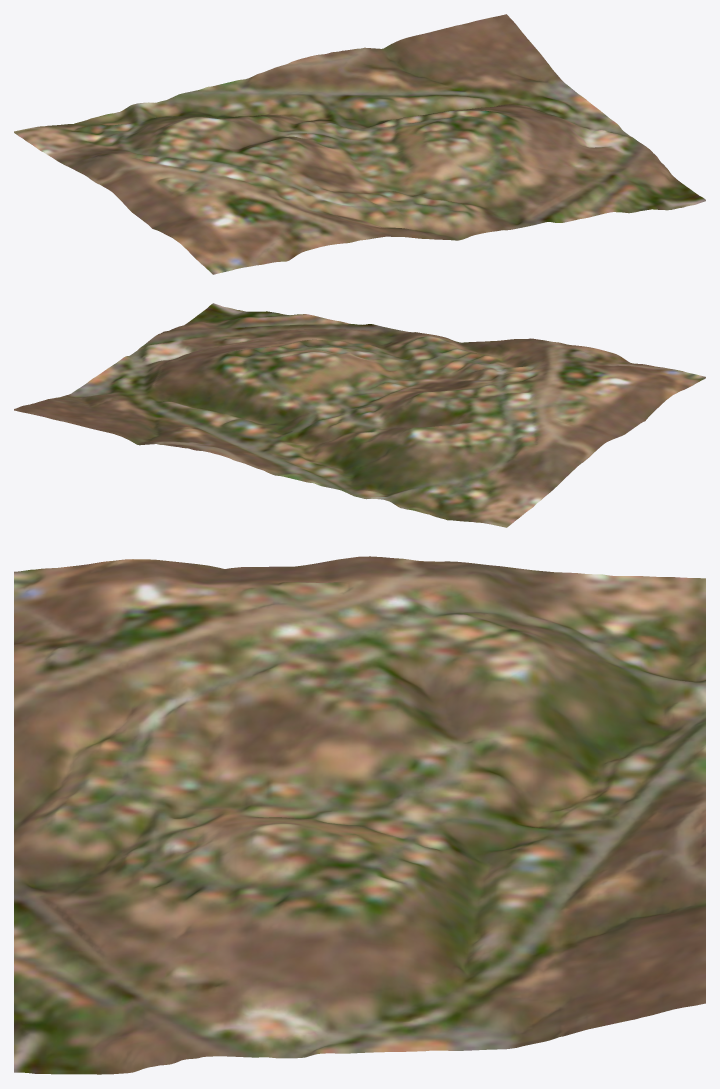
File: terrain_r0_c0.glb
3 renders of one model, top to bottom at view 1: azimuth 30°, elevation 25°; view 2: azimuth 150°, elevation 25°; view 3: azimuth 270°, elevation 25°, orthographic. The views are drawn at different scales.
Visible parts, largest first — view 1: terrain_r0_c0_lod0; view 2: terrain_r0_c0_lod0; view 3: terrain_r0_c0_lod0.
Part boxes in pixels (x1,y1,x2,y2): terrain_r0_c0_lod0: (14,14,705,274); terrain_r0_c0_lod0: (14,303,705,527); terrain_r0_c0_lod0: (14,556,705,1074).
Size of the model in its own units: 1125 by 142 by 787.
1 material, 1 textured.
